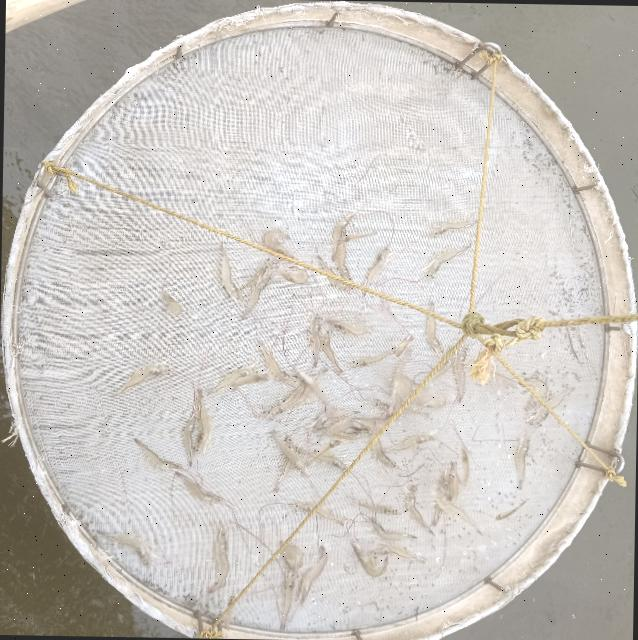shrimp: (111, 364, 176, 398), (97, 532, 150, 567), (258, 341, 300, 383), (271, 431, 307, 477), (265, 381, 307, 420), (299, 547, 326, 607), (535, 387, 574, 428), (295, 446, 350, 474), (280, 371, 325, 405), (133, 438, 182, 469), (176, 473, 223, 505), (207, 368, 262, 395), (428, 246, 470, 281), (208, 526, 229, 592), (318, 256, 356, 291), (363, 246, 389, 296), (290, 502, 344, 526), (273, 435, 295, 493), (407, 485, 433, 534), (351, 542, 388, 576), (220, 244, 242, 300), (281, 568, 300, 629), (238, 259, 274, 291), (332, 212, 356, 260), (243, 276, 271, 317), (373, 422, 397, 468), (370, 544, 426, 563), (194, 389, 210, 455), (372, 517, 417, 540), (347, 347, 396, 368), (306, 439, 343, 466), (313, 409, 358, 431), (426, 301, 444, 354), (518, 378, 547, 410), (336, 231, 353, 285), (323, 327, 342, 374), (454, 344, 469, 403), (430, 220, 479, 238), (349, 498, 399, 515), (183, 413, 198, 466), (516, 437, 530, 489), (262, 230, 291, 255), (311, 313, 322, 367), (327, 320, 364, 335), (281, 266, 308, 284), (162, 292, 181, 316)
